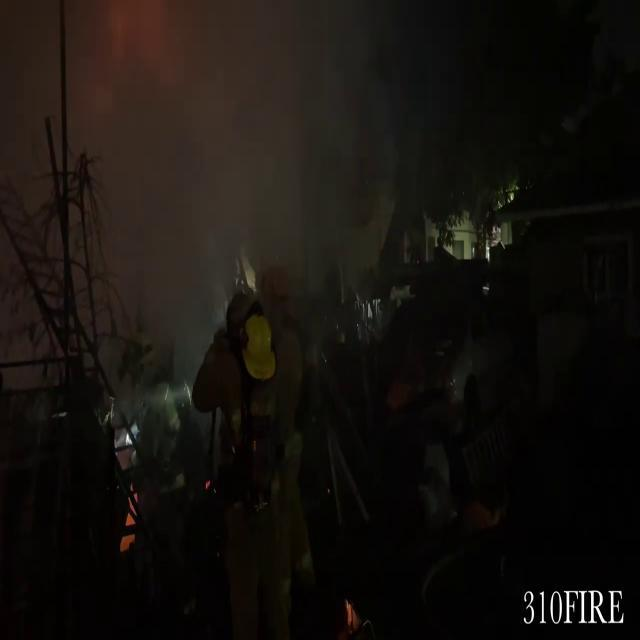Smoke: (0, 0, 401, 333)
